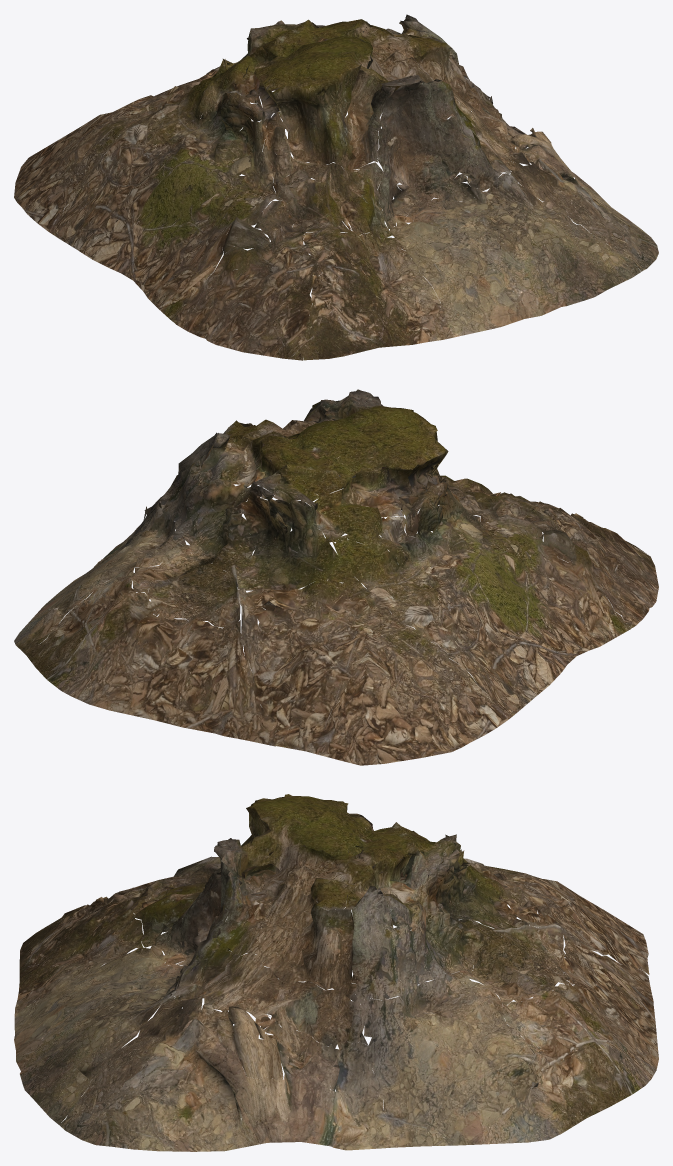
3 views of the same model, one above another, from view 1: azimuth 30°, elevation 25°; view 2: azimuth 150°, elevation 25°; view 3: azimuth 270°, elevation 25° (orthographic). The views are drawn at different scales.
Visible parts, largest first — view 1: tree_stump_01; view 2: tree_stump_01; view 3: tree_stump_01.
Boxes of the visible parts, box(x1,y1,x2,y2) form: tree_stump_01: box(14, 14, 658, 360); tree_stump_01: box(14, 389, 658, 765); tree_stump_01: box(14, 794, 658, 1151).
Bounding box in the file's own units: 1.42 × 0.5722 × 1.59.
Materials: 1 (1 with a texture image).
